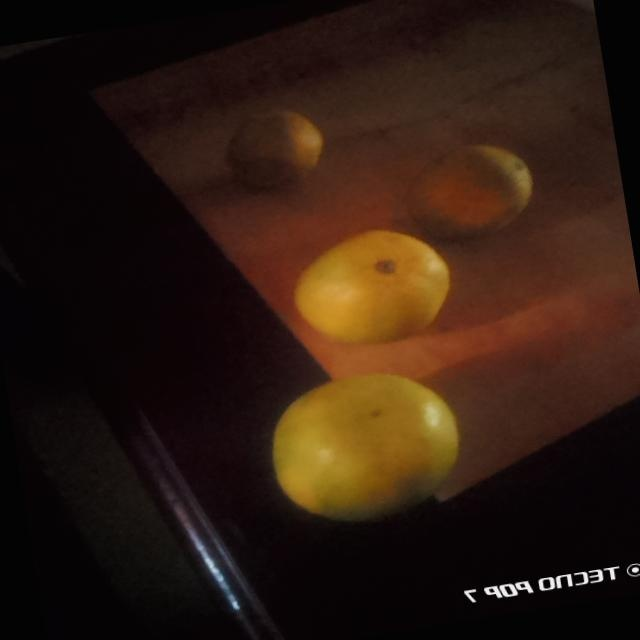agrume: (263, 362, 481, 530), (279, 213, 461, 361), (424, 130, 540, 245), (228, 103, 331, 197)
